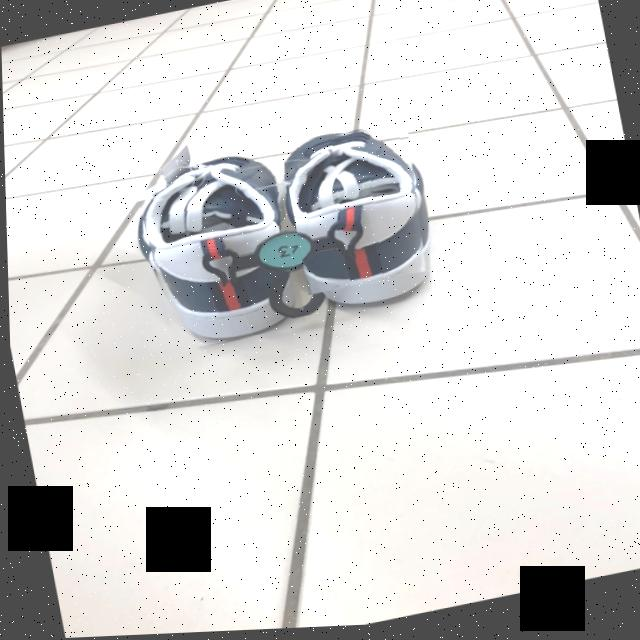shoe: (143, 160, 297, 343), (284, 135, 422, 292)
